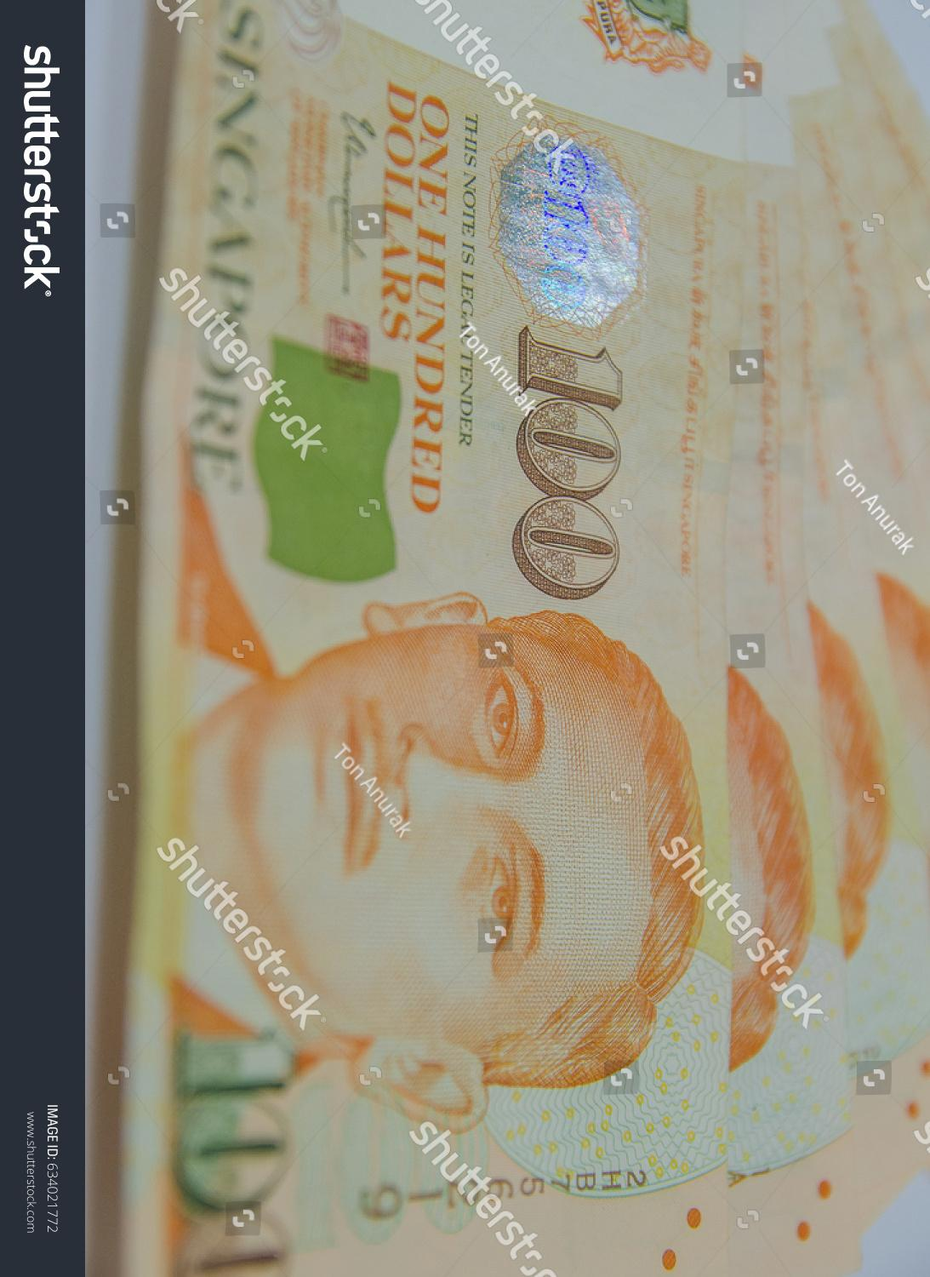100SingaporeDollar: (174, 0, 724, 1277)
